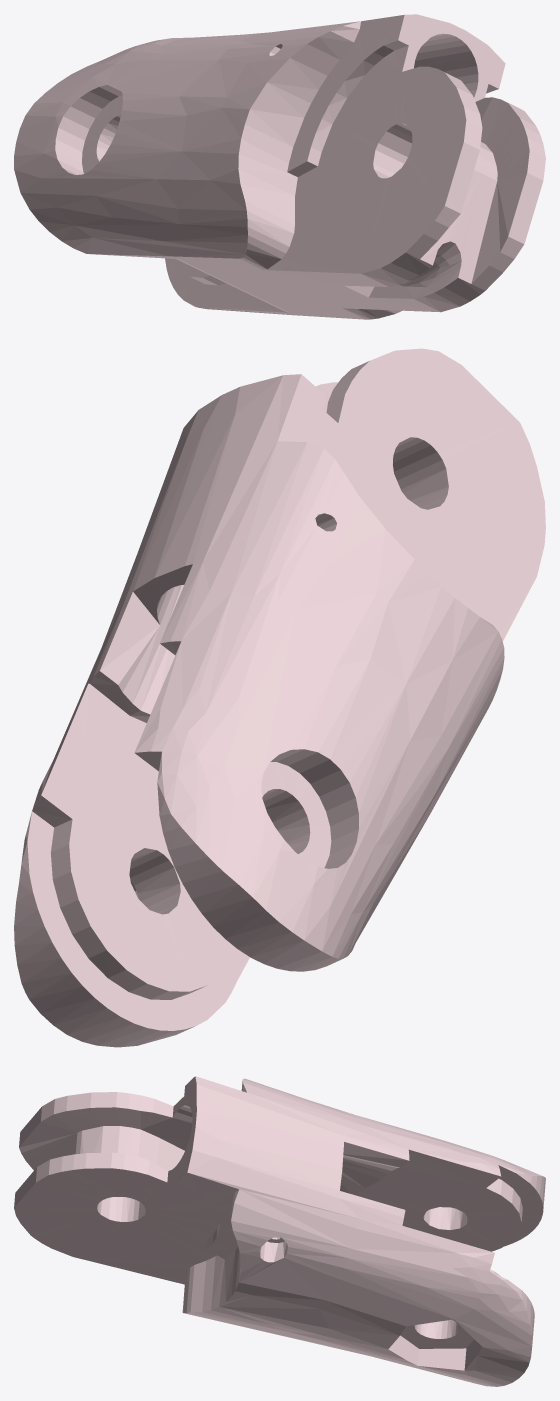
File: i02_leftHand_pinkyMid_visual.obj.light.glb
3 renders of one model, top to bottom at view 1: azimuth 30°, elevation 25°; view 2: azimuth 150°, elevation 25°; view 3: azimuth 270°, elevation 25°, orthographic. The views are drawn at different scales.
Bounding box in the file's own units: 0.2074 × 0.2597 × 0.3863.
